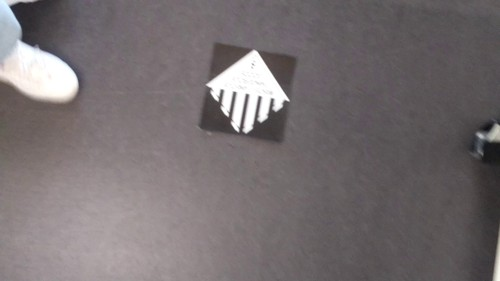misgoods: (201, 47, 295, 135)
